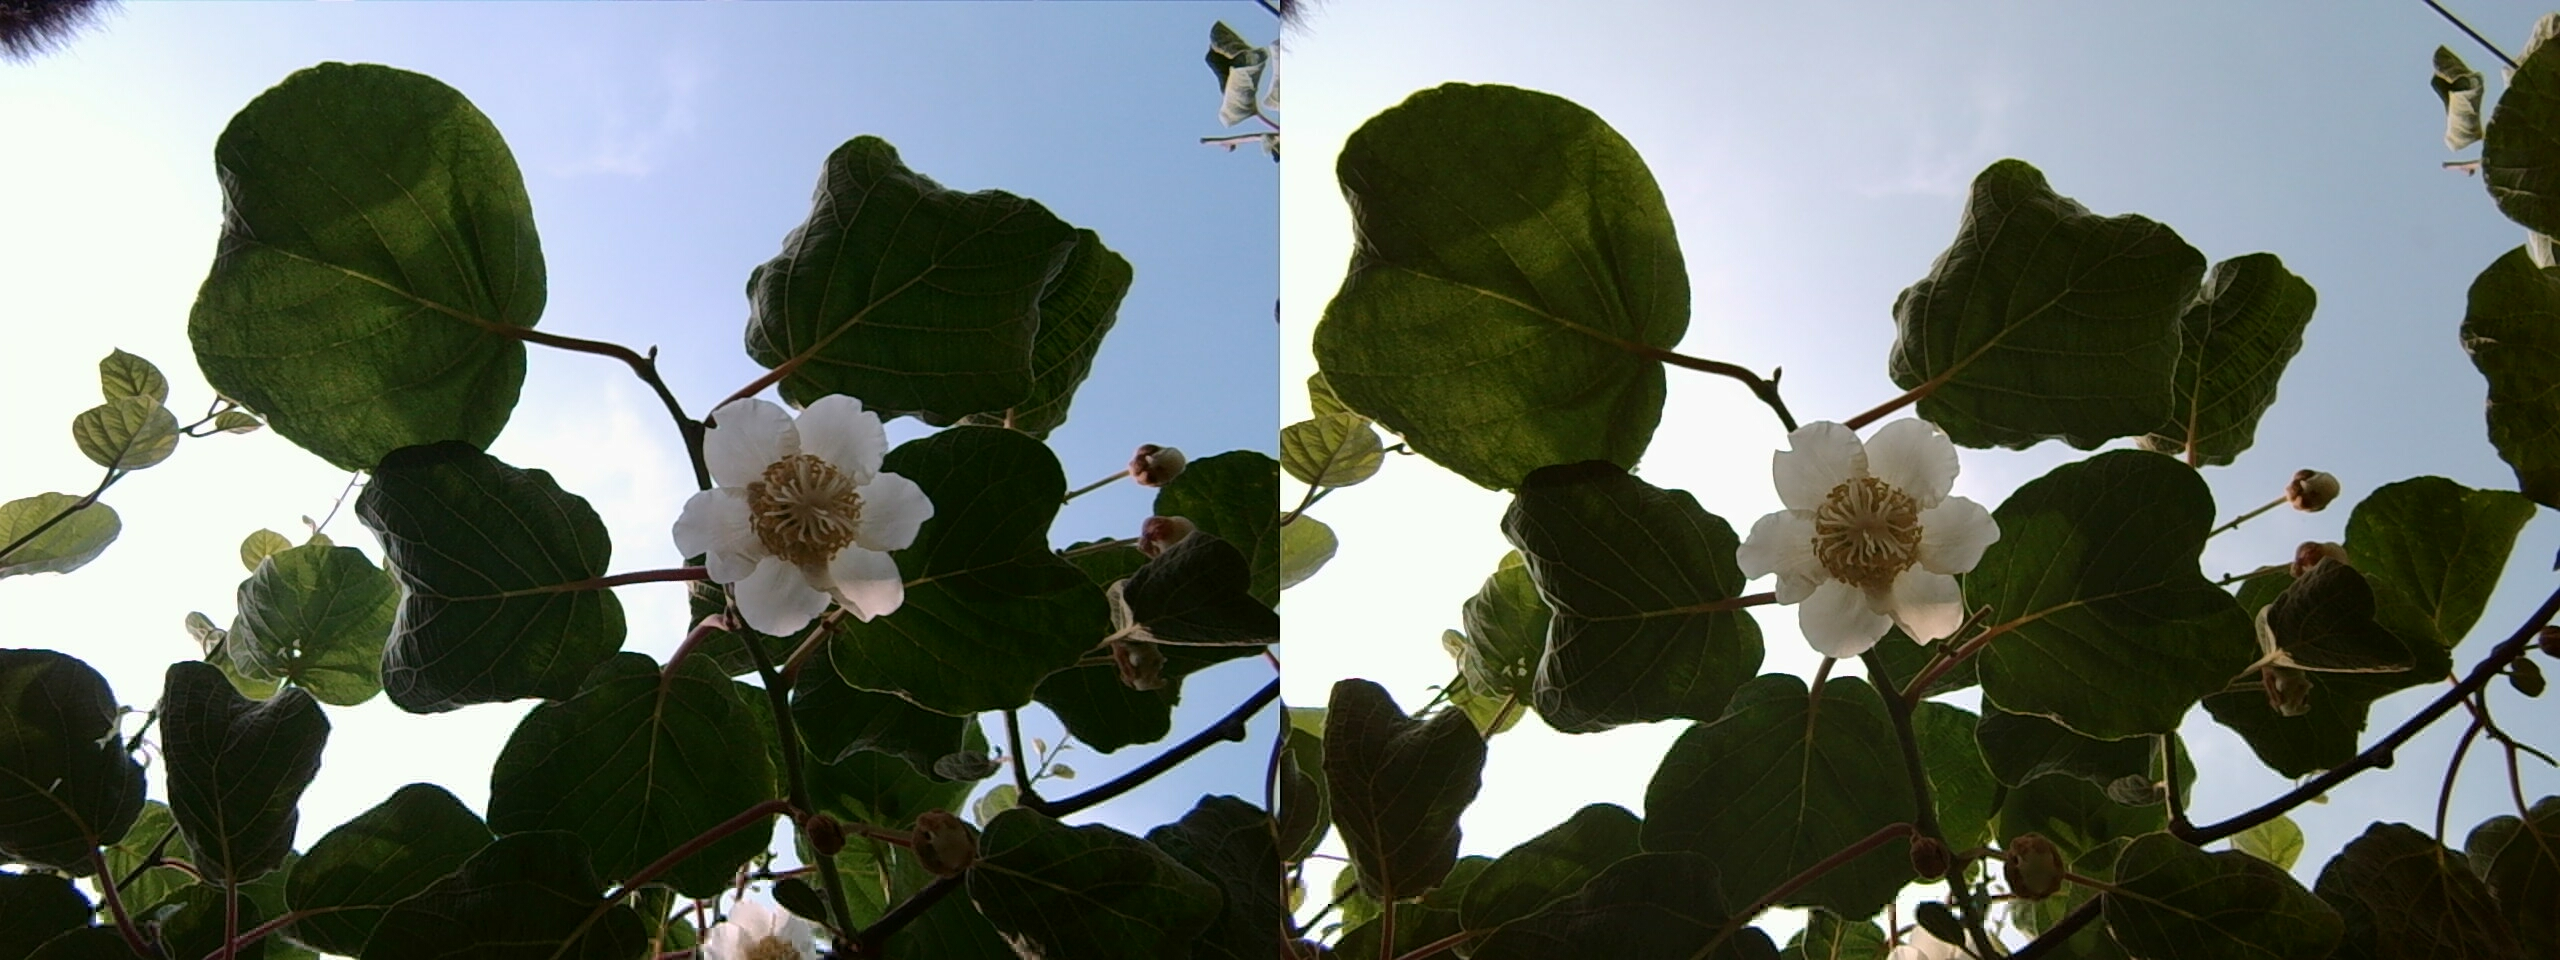flower: (1739, 408, 1985, 655), (679, 379, 919, 629)
